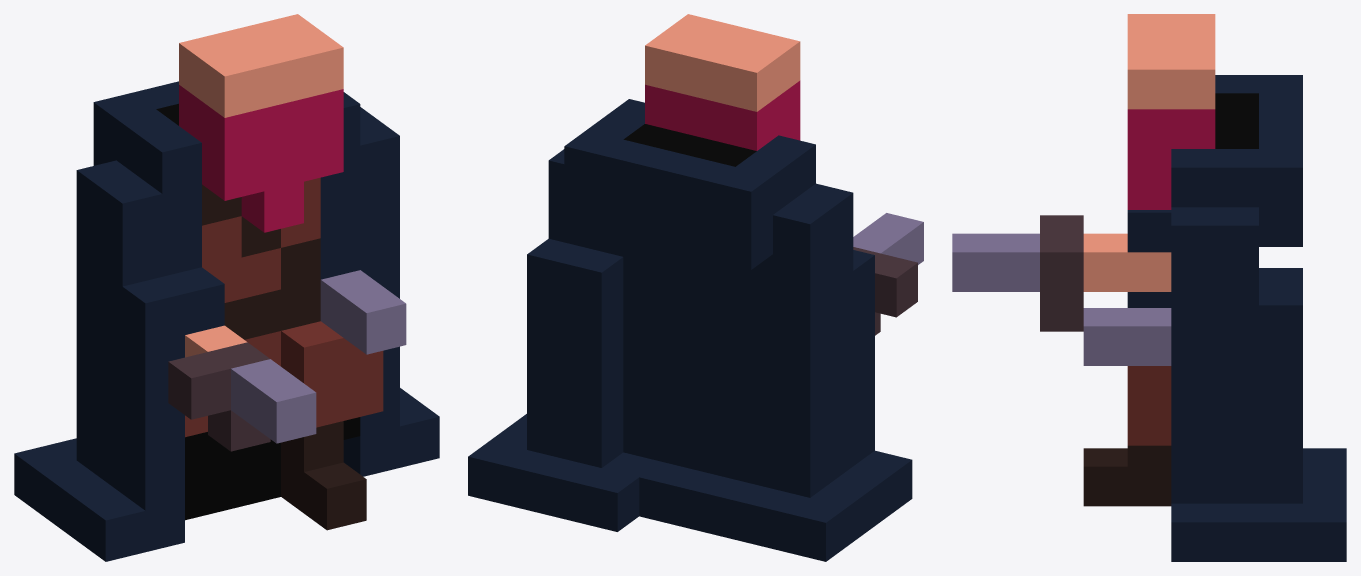
The model's file is rogue_action_0.obj.
3 views of the same model, side by side, from view 1: azimuth 30°, elevation 25°; view 2: azimuth 150°, elevation 25°; view 3: azimuth 270°, elevation 25° (orthographic). The views are drawn at different scales.
Size of the model in its own units: 0.9 by 1.1 by 0.9.
1 material, 1 textured.
